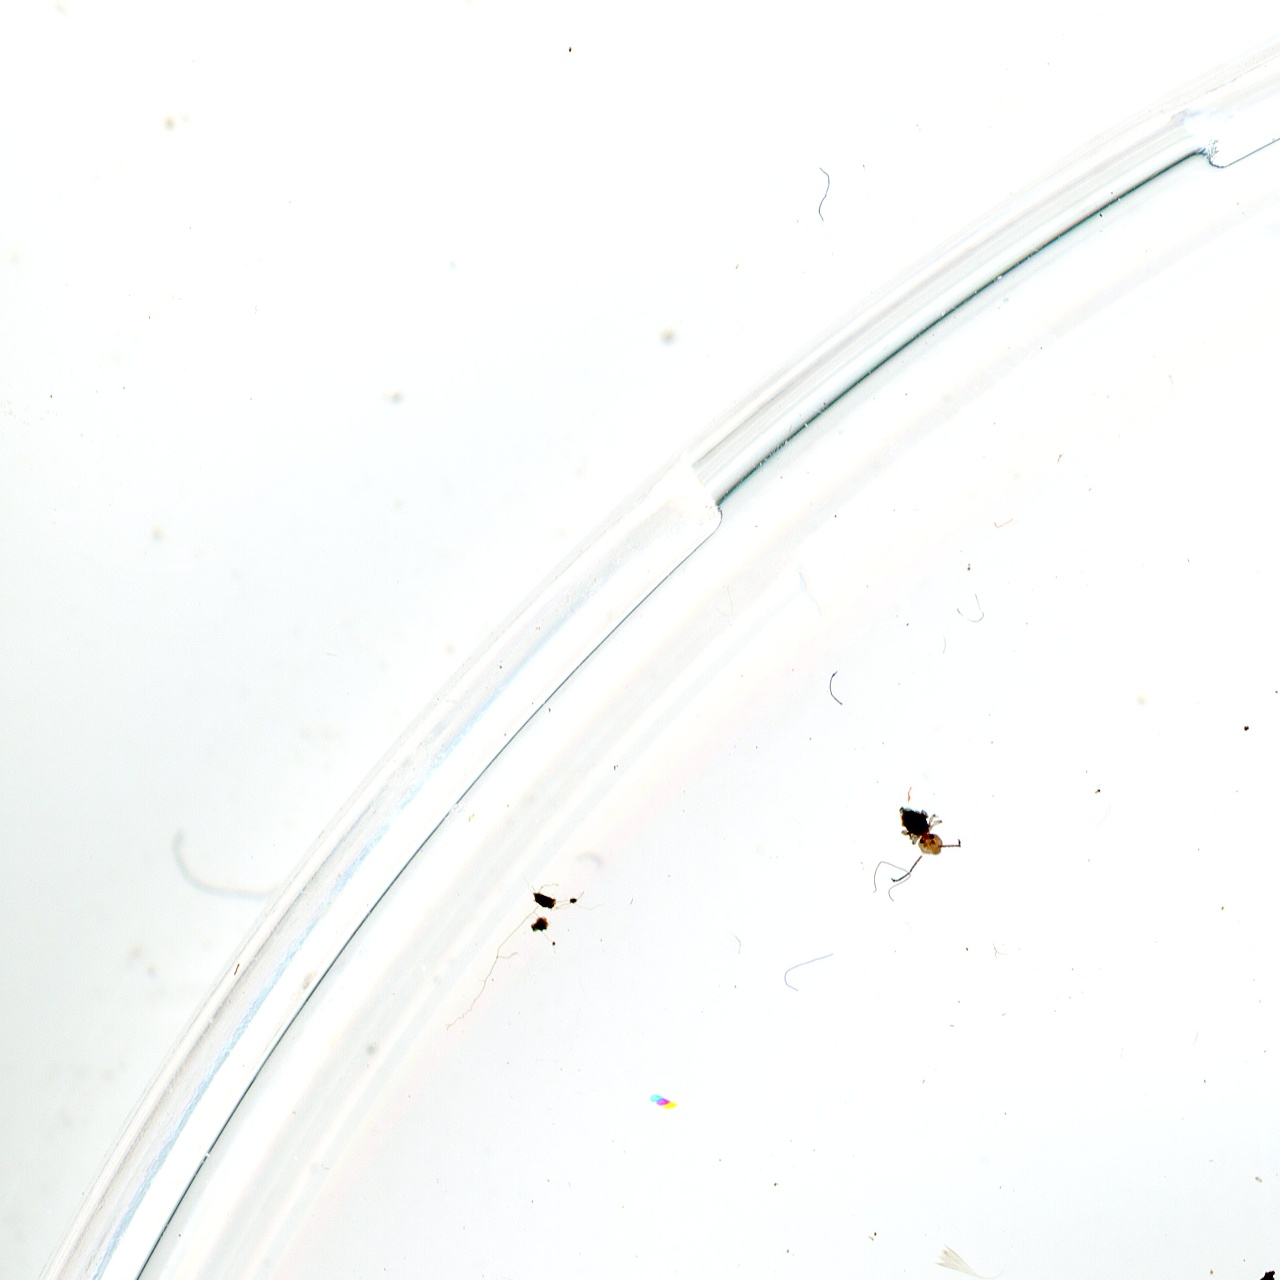arthropod: (888, 802, 964, 885)
